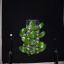leaf: (28, 24, 38, 32), (37, 44, 47, 52), (18, 46, 28, 53), (20, 36, 28, 44), (28, 30, 36, 38), (37, 31, 46, 38), (38, 20, 44, 30), (37, 42, 45, 49), (19, 28, 28, 34), (29, 40, 35, 46), (23, 41, 28, 47), (28, 50, 33, 54)
